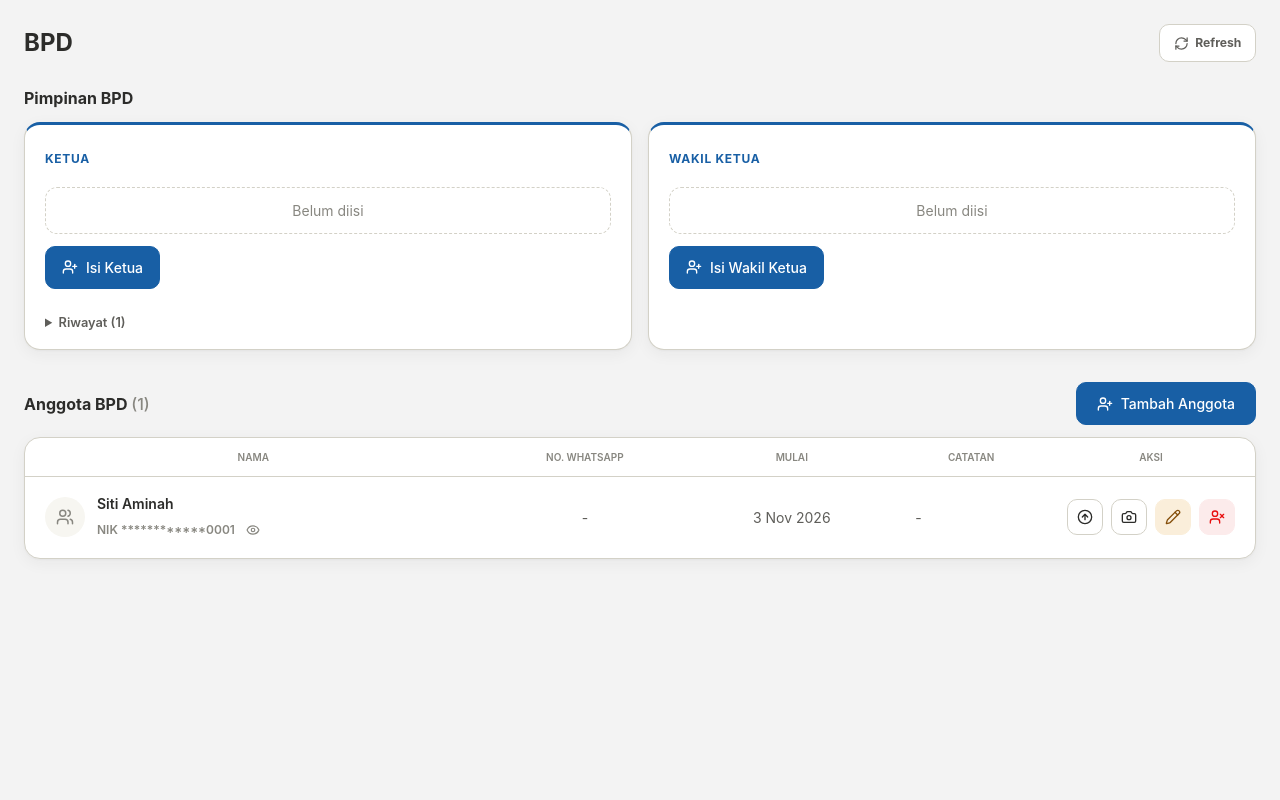
Test: OrganisasiManager › shows why a NIK cannot be used
Click the button "Tambah Anggota" at (1166, 404), box [1076,382,1256,425]
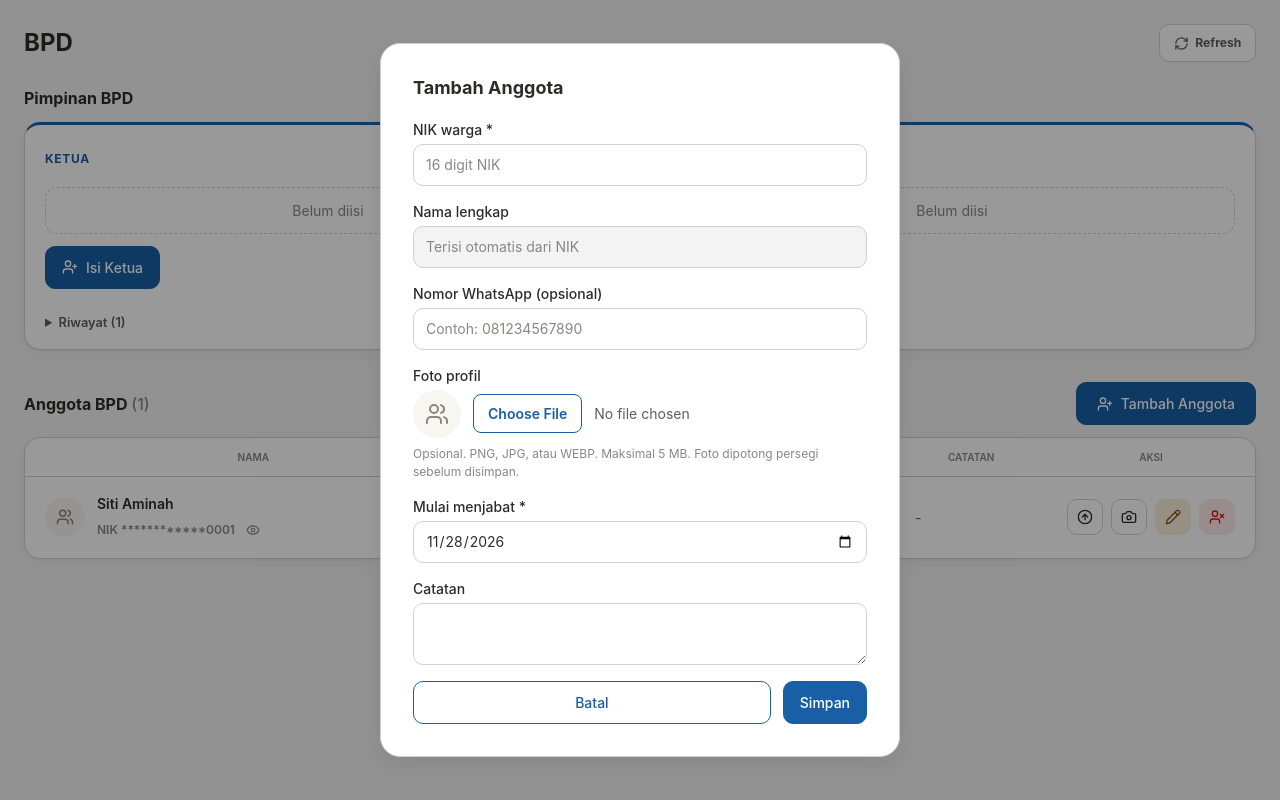
Type "3201010101019999" into the field labelled "NIK warga *" at (640, 165), box [413,144,867,186]
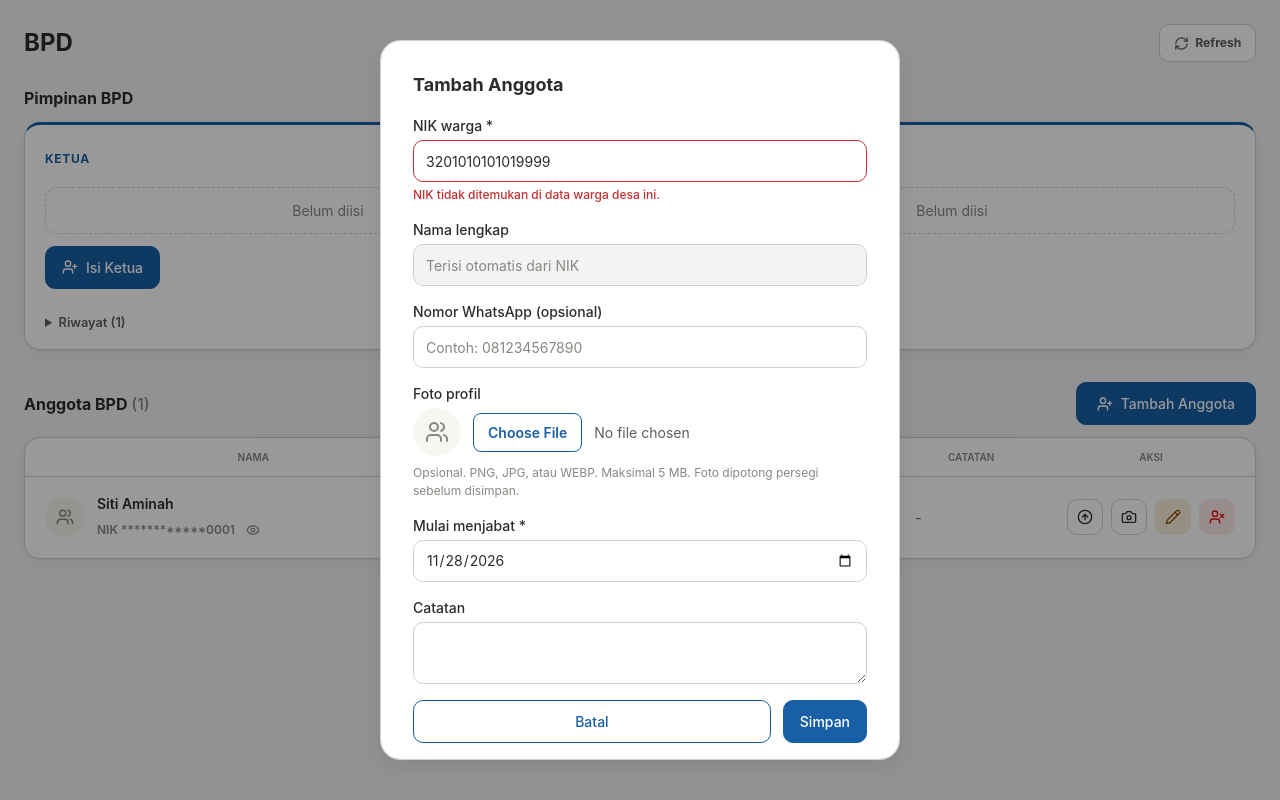
Now the message shows "NIK tidak ditemukan", box [413,187,660,202]
Note: Simpan tetap bisa diklik dan menjelaskan kenapa belum bisa disimpan.
Click the button "Simpan" at (825, 721), box [783,700,867,743]
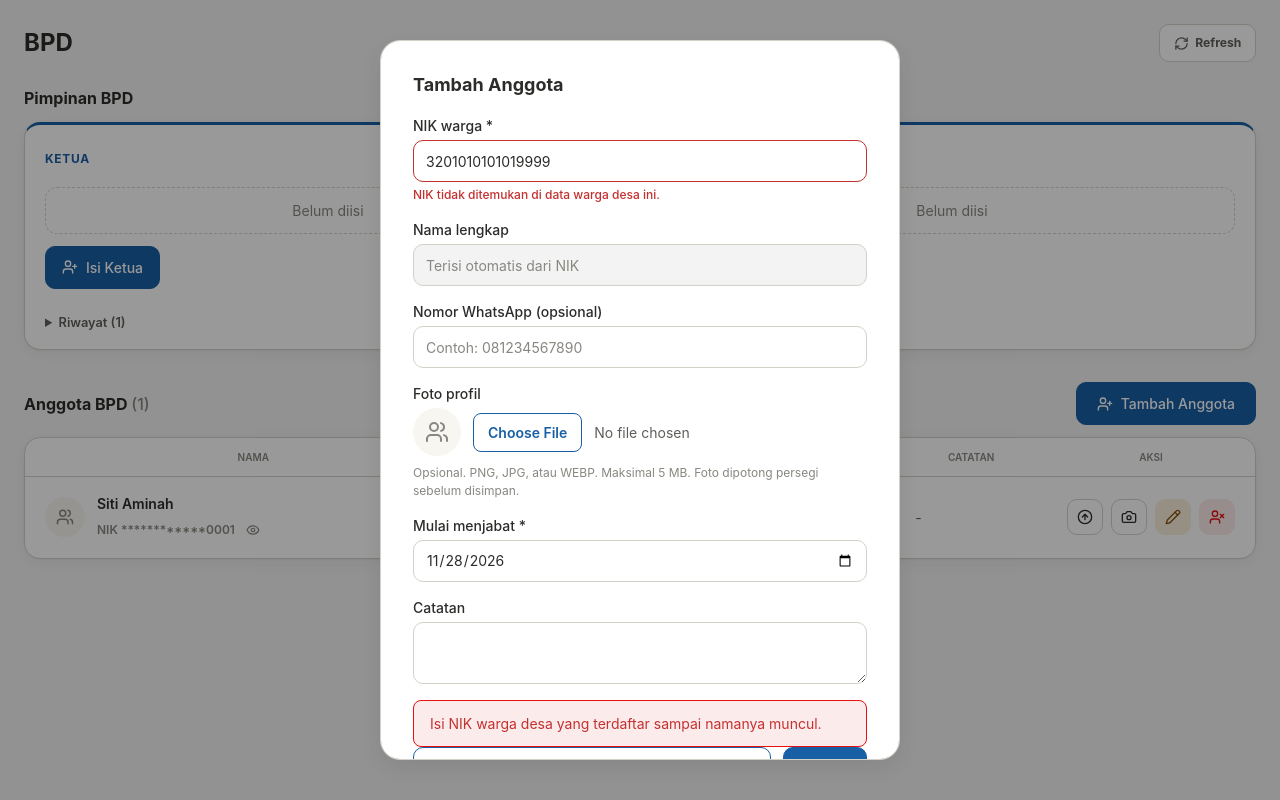
Now the text "Isi NIK warga desa yang terdaftar sampai namanya muncul." is shown, box [413,700,867,747]
